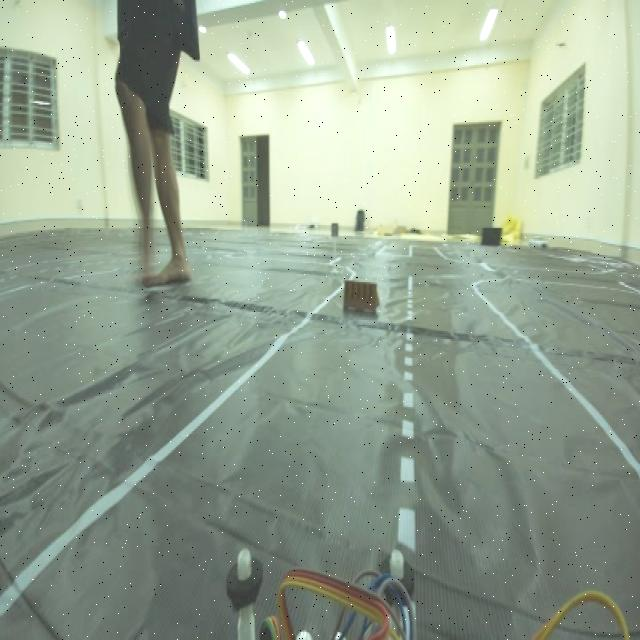roadblock: (338, 273, 384, 326)
